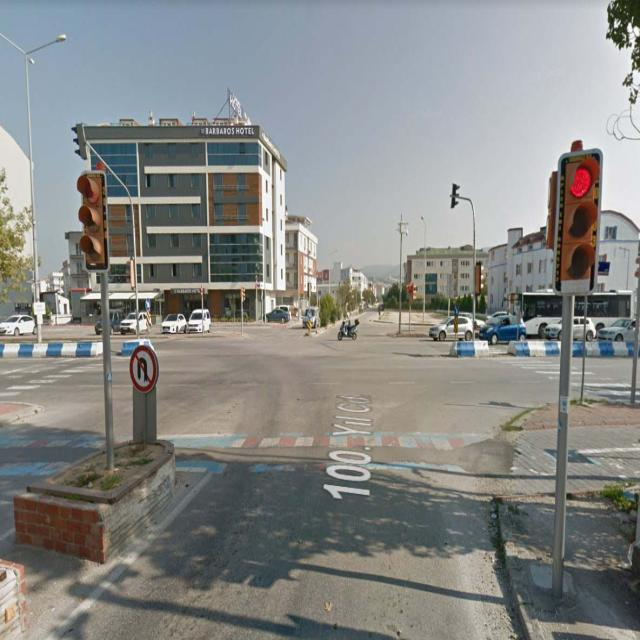kirmizi: (564, 158, 591, 281), (80, 174, 102, 262)
